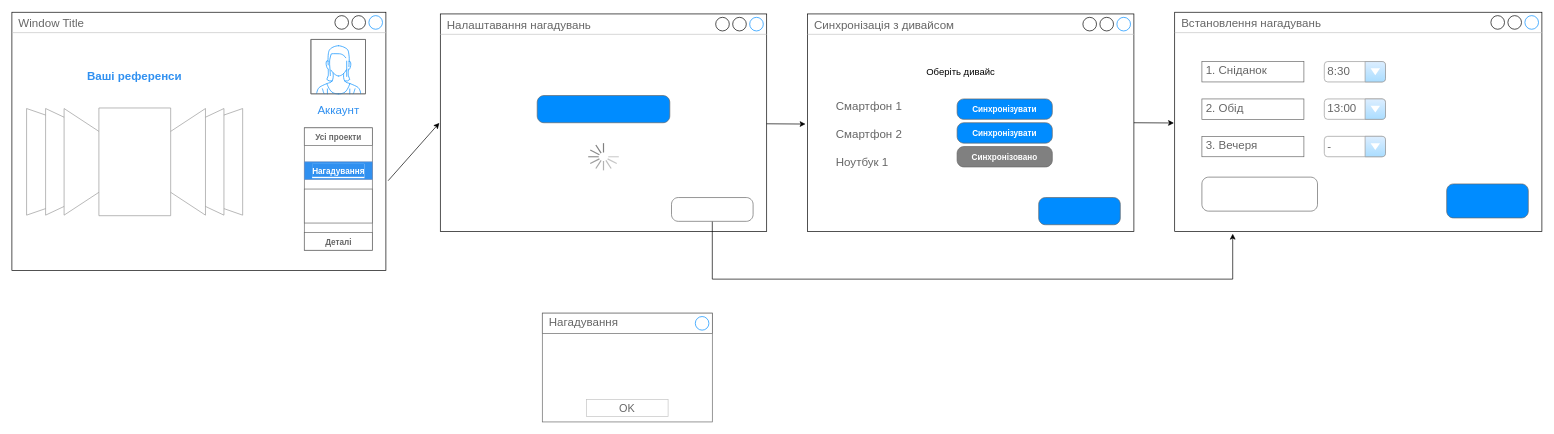
Image size: 1554x434. Some labels were removed from this diagram. Here are the shapes that lost their labels. From the top down, the centre of each, then its label:
(603,109): Синхронізувати дивайс
(338,205): Створити новий проект
(712,209): Пропустити
(1079,211): Далі
(1259,193): Додати прийом їжі
(1487,200): Завершити
(627,367): Обід 13:00
